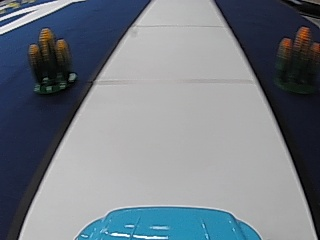corn: (28, 25, 76, 96), (274, 22, 316, 94)
